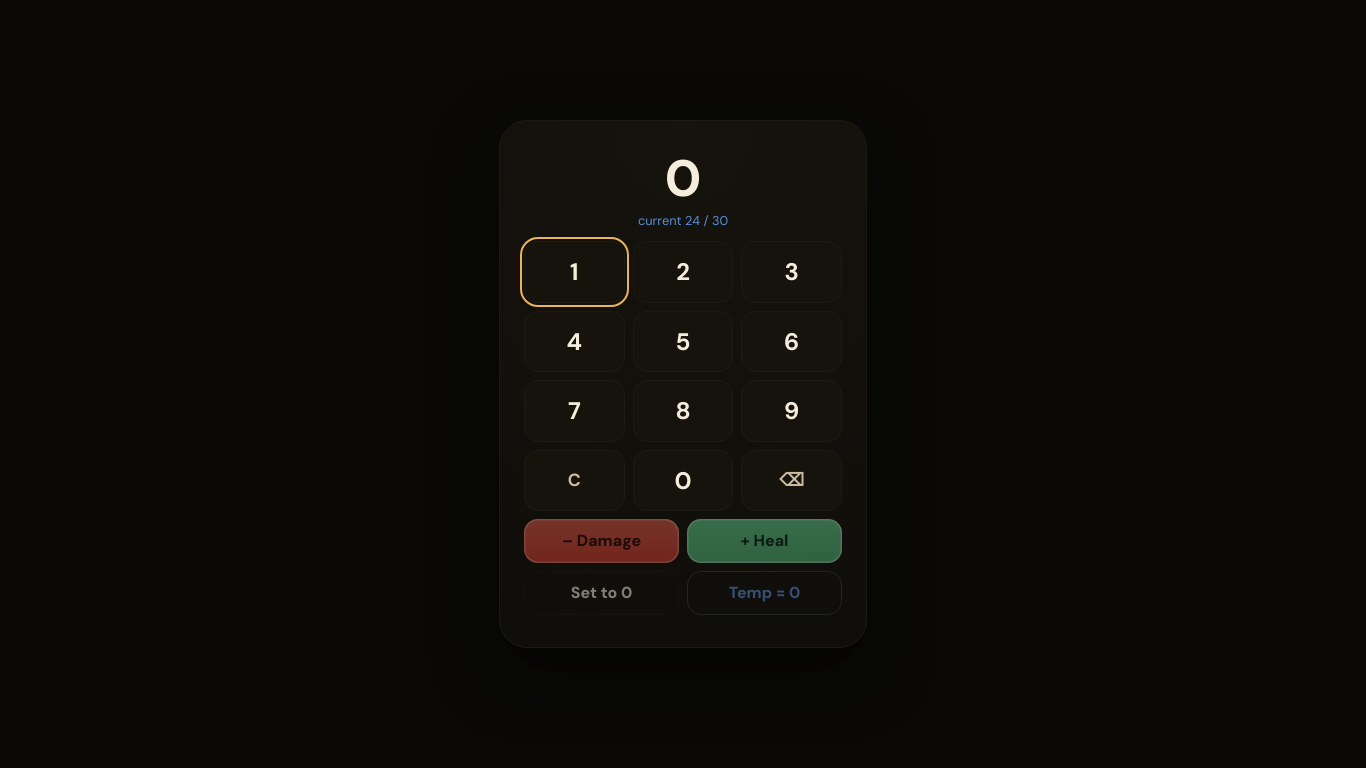
Test: HpKeypad › builds the amount from digit taps
The image size is (1366, 768).
Click the button "9".
click(792, 411)  # box [741,380,842,442]
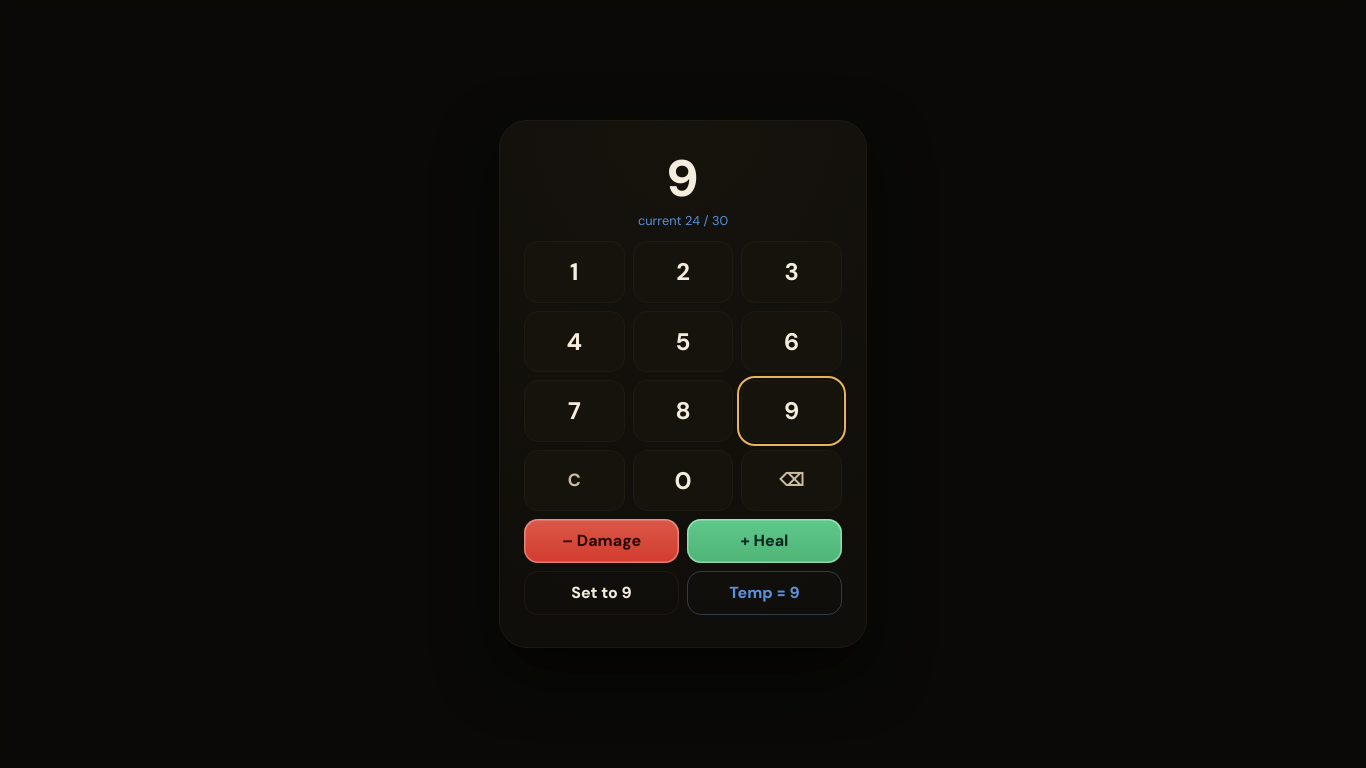
Click the button "0".
click(683, 480)  # box [633,450,733,511]
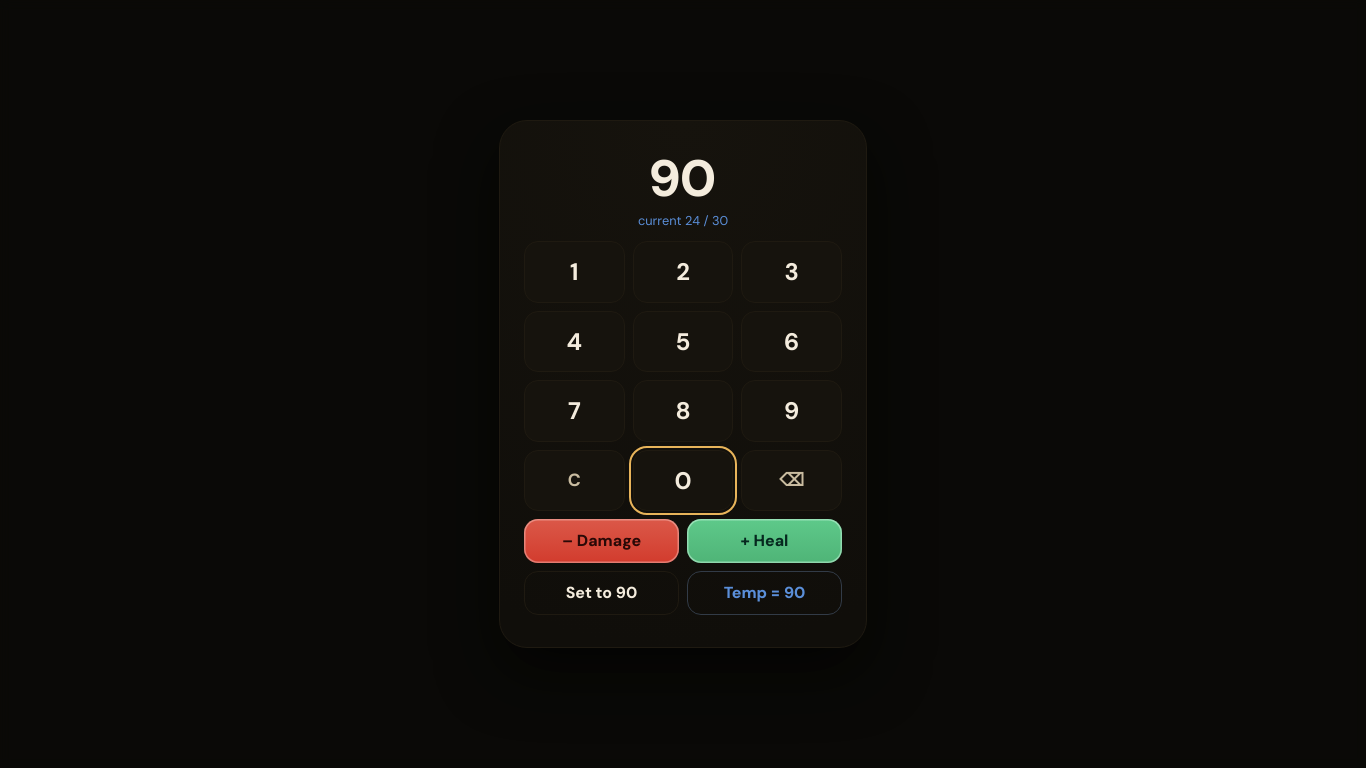
Now the text with test id "keypad-amount" reads "90", box [650,145,716,212]
